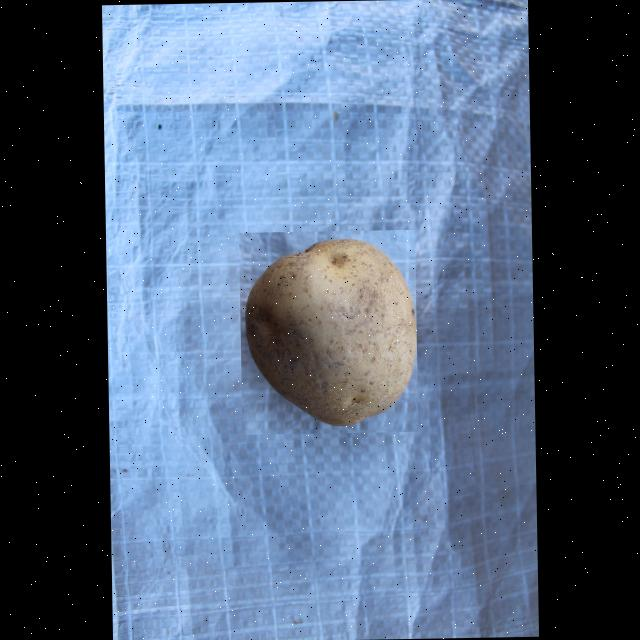Diseased-fungal potato: (238, 228, 418, 434)
